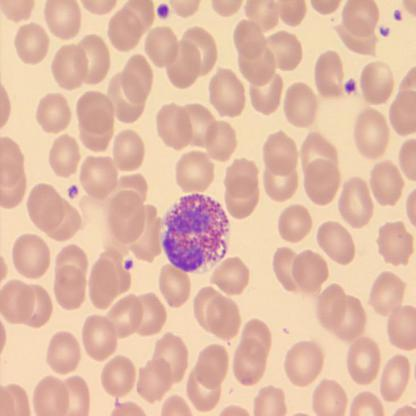Eosinophil: (160, 193, 234, 273)
